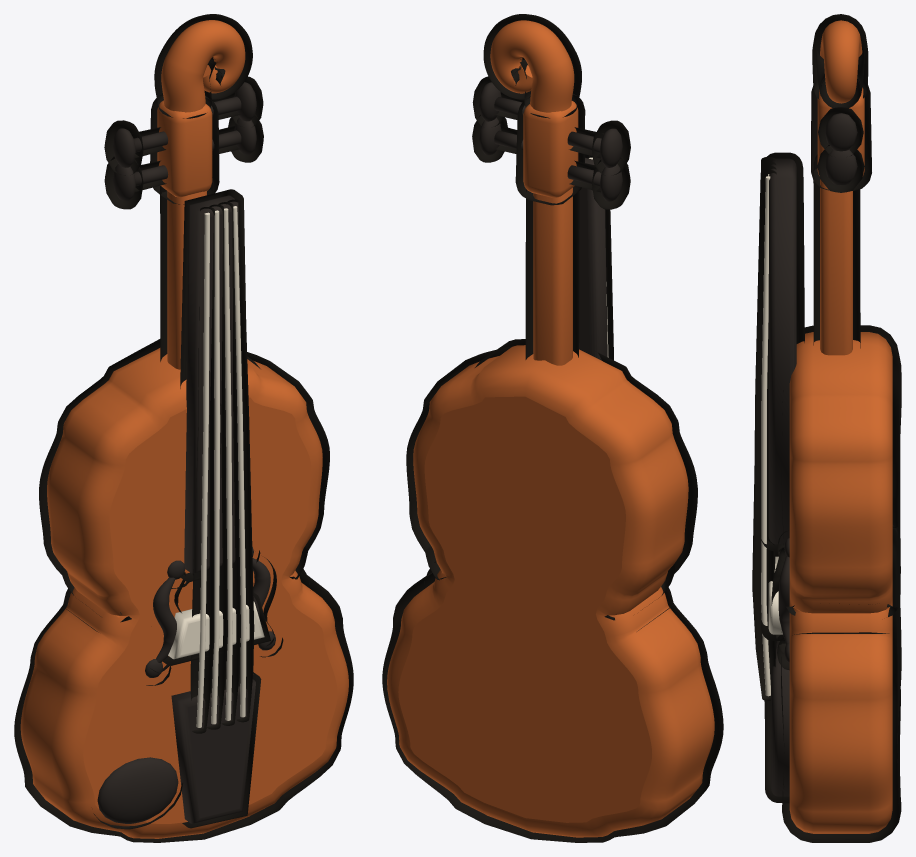
File: violin.glb
3 views of the same model, side by side, from view 1: azimuth 30°, elevation 25°; view 2: azimuth 150°, elevation 25°; view 3: azimuth 270°, elevation 25° (orthographic).
Visible parts, largest first — view 1: Violin, Violin_outline; view 2: Violin, Violin_outline; view 3: Violin, Violin_outline.
Boxes of the visible parts, box(x1,y1,x2,y2) form: Violin: box(20, 20, 348, 838); Violin_outline: box(14, 14, 353, 842); Violin: box(387, 20, 714, 837); Violin_outline: box(382, 14, 723, 842); Violin: box(761, 20, 892, 833); Violin_outline: box(752, 14, 901, 842).
Size of the model in its own units: 1.52 by 3.82 by 0.6384.
